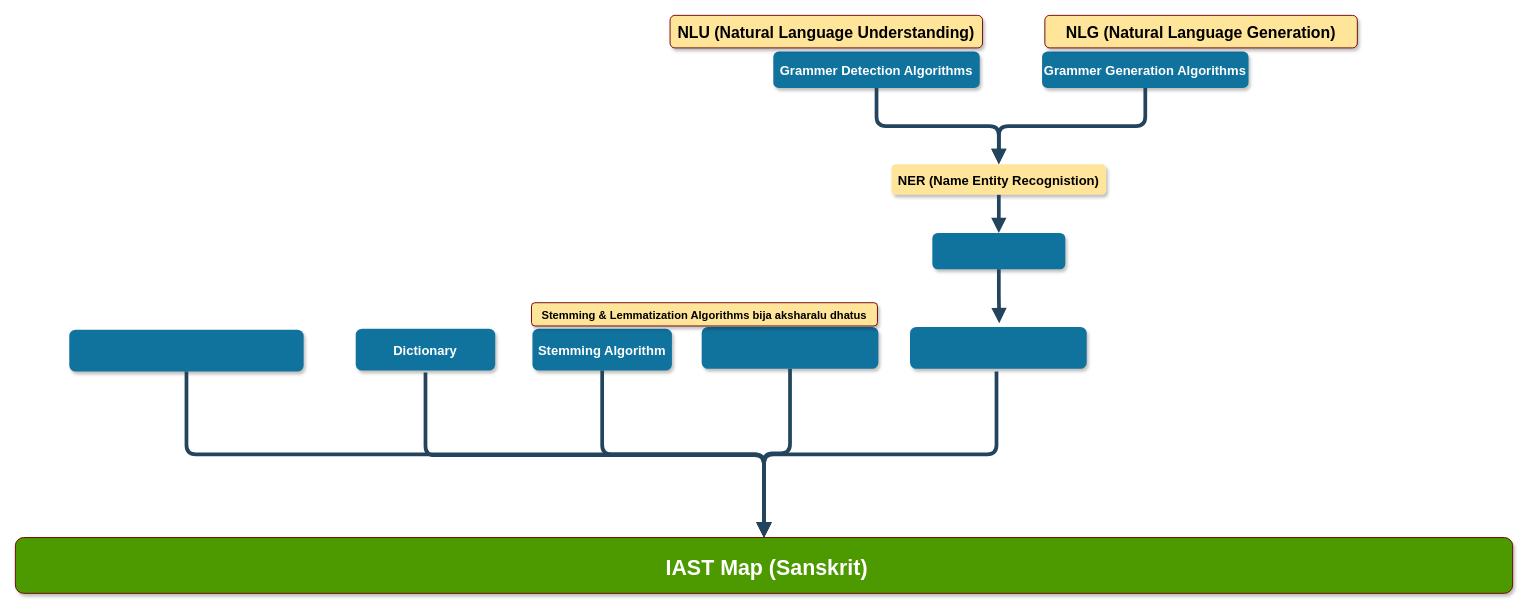
The diagram is 1528 pixels wide and 608 high, and some of its shapes have lost their labels. The shapes that lost their labels are listed below. From the top down, each one's centre as x and y in pixels, then its label:
point 999,252: Rules & Heuristics
point 187,352: Phonetic Character(IAST:ISO15919)
point 791,349: Lemmatization Algorithm
point 999,349: Vyakaranam Grammer
